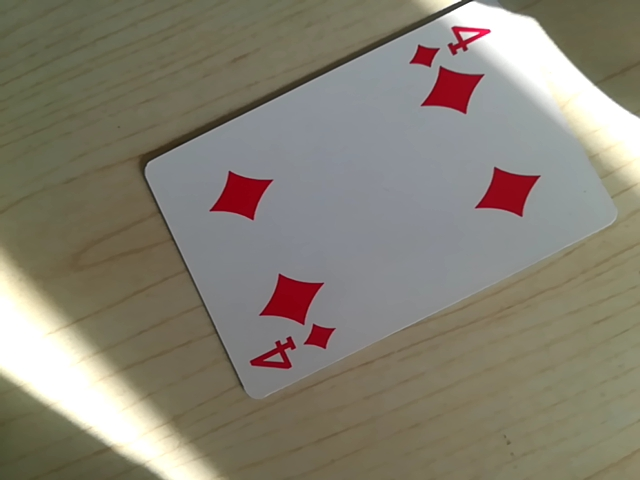fk 4: (246, 322, 338, 378), (409, 13, 493, 71)
